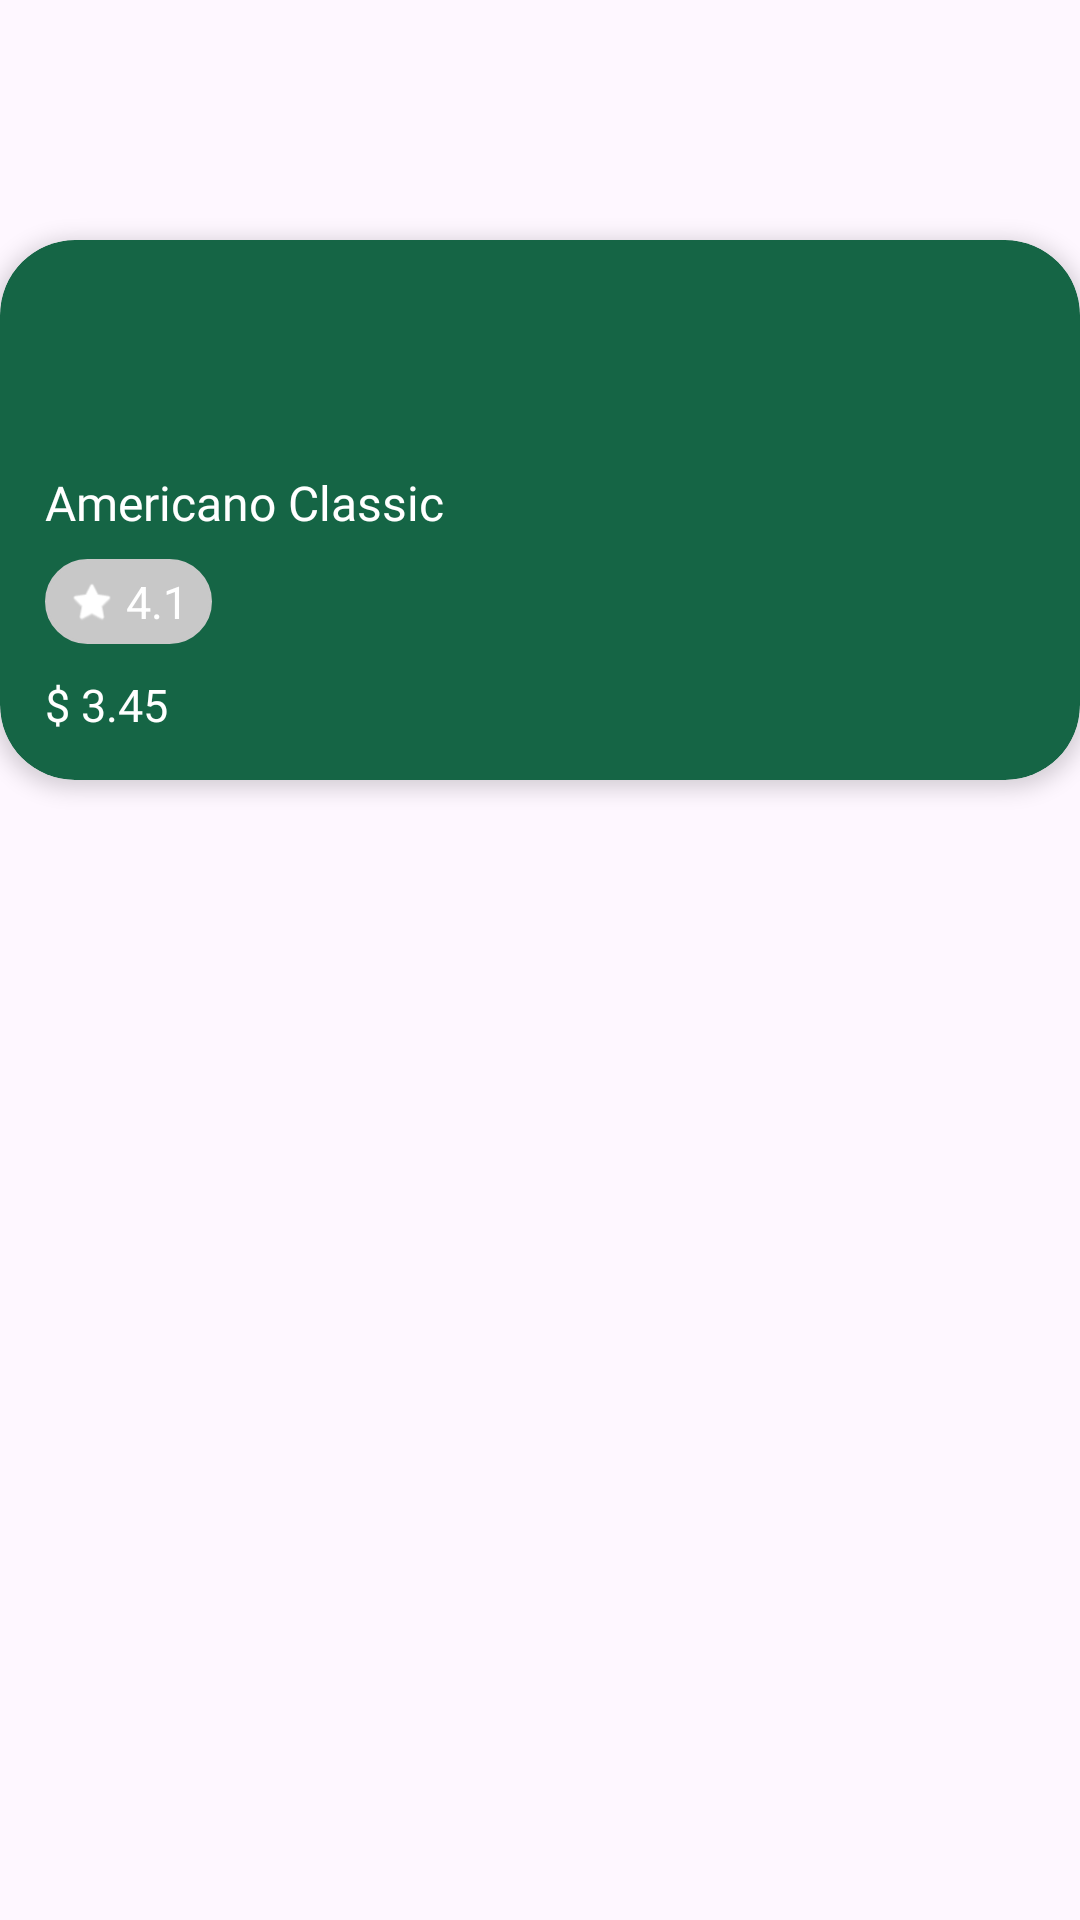

Named icons in this screenshot (1080x1920) and their centers, [x,y]:
star on: [92,601]
